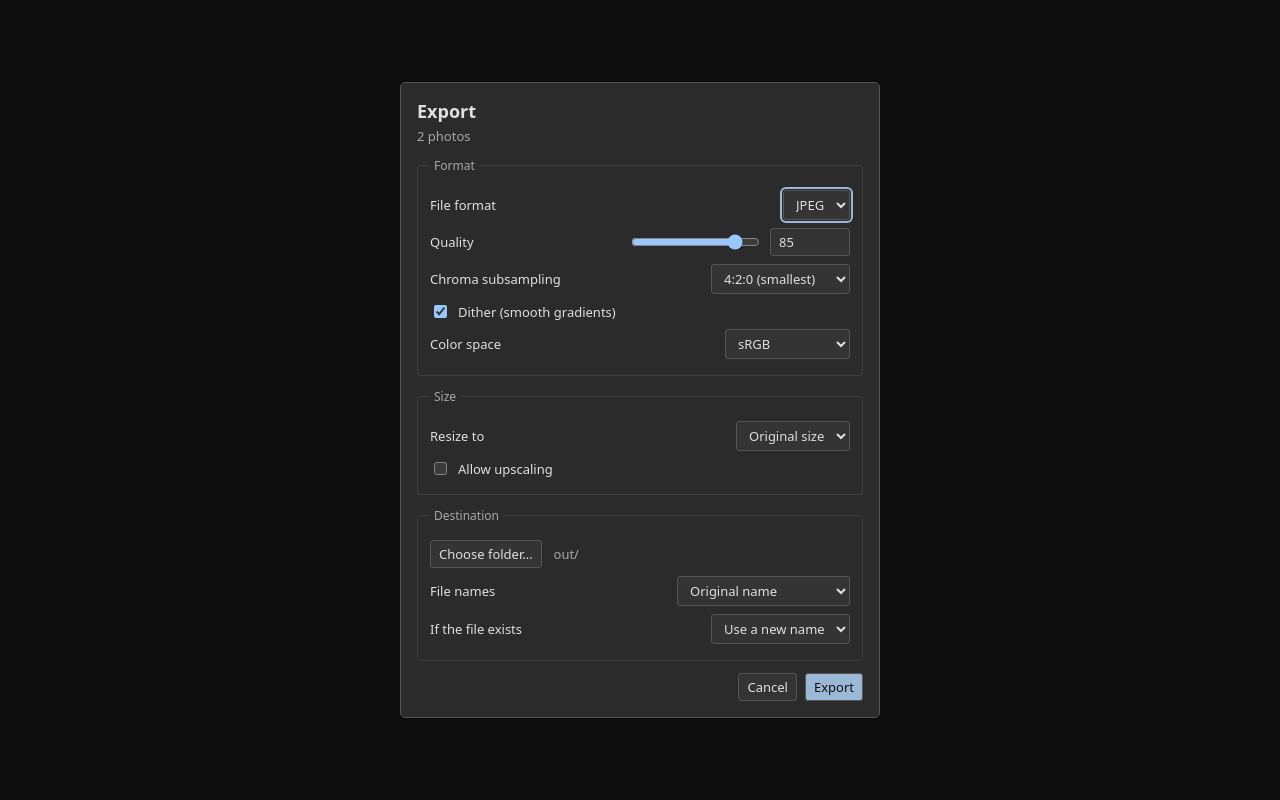
Test: ExportDialog › shows the size value only for a size mode, and checks upscaling
Select "Percent" in the dropdown labelled "Resize to" at (793, 436), box [736,421,850,451]
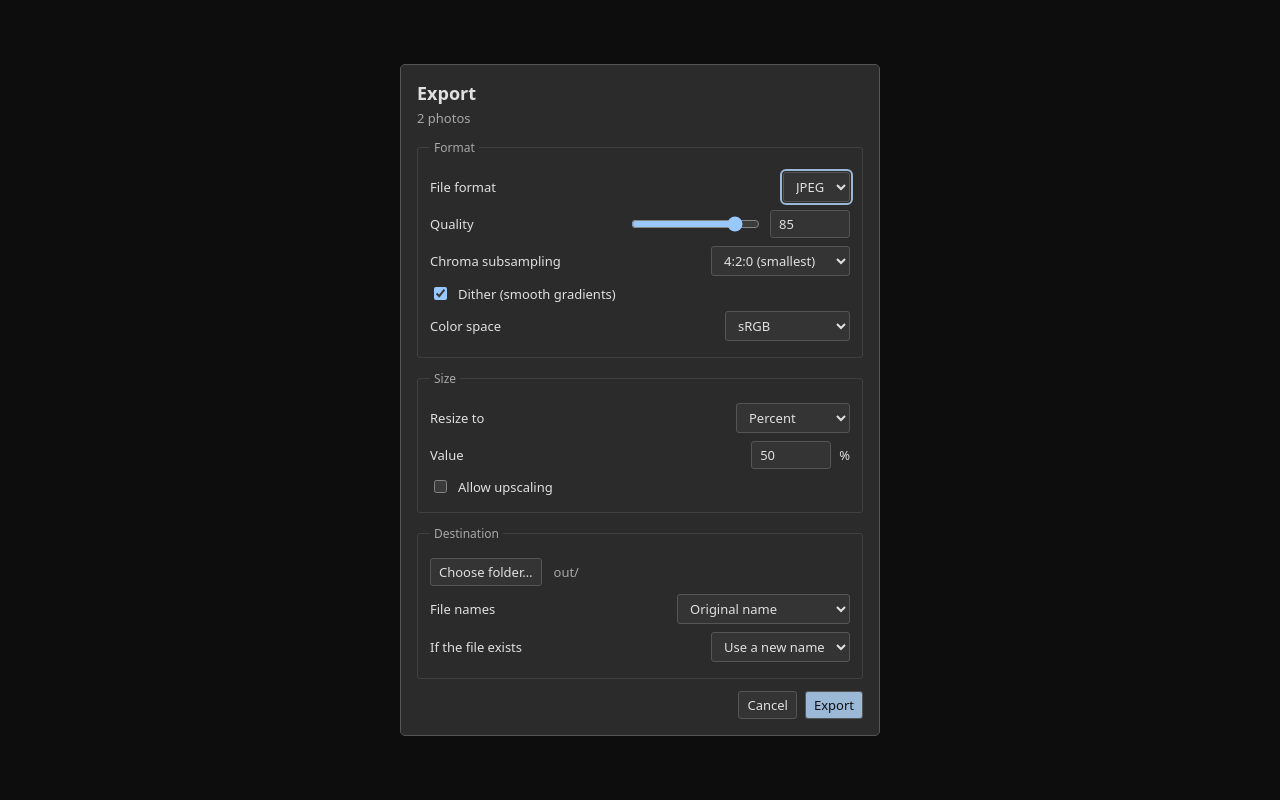
Replace the text in the number field named "Size value" with "200" at (791, 455), box [751,441,831,469]
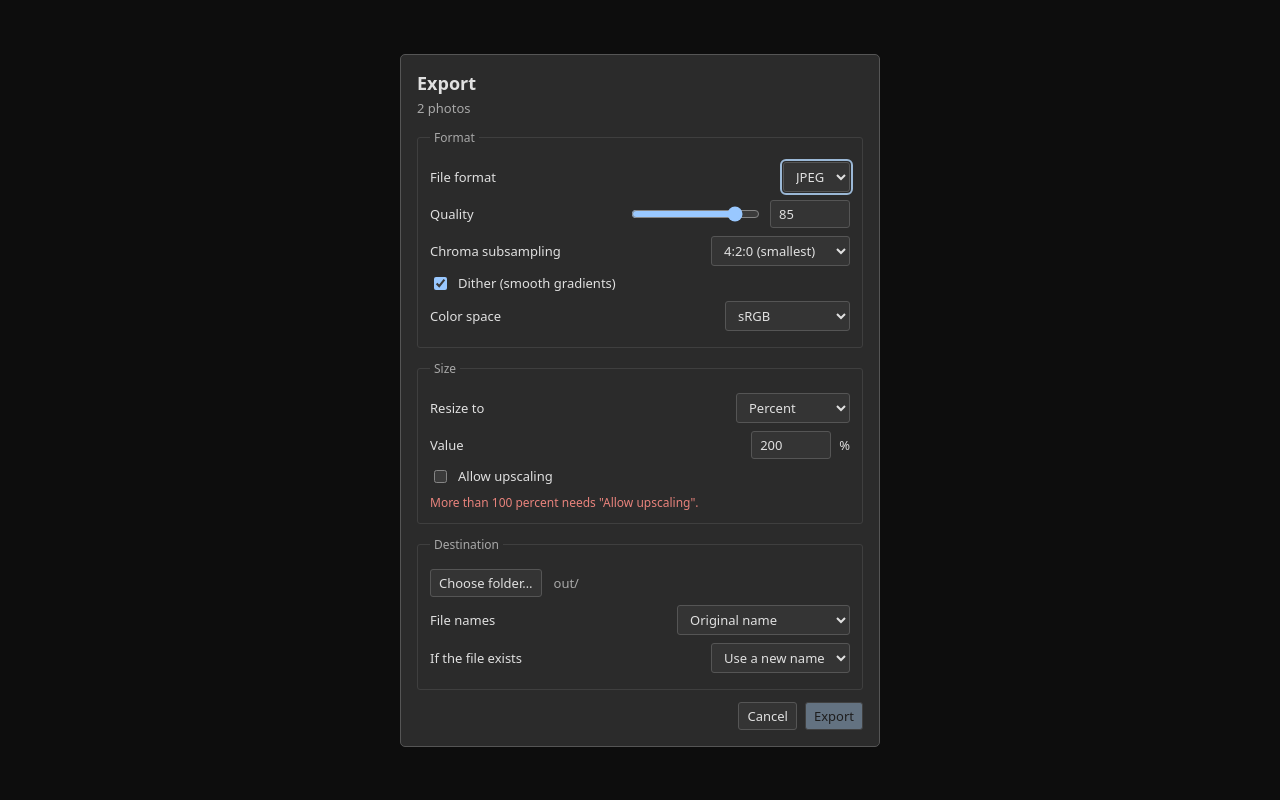
Check: the button "Export" is disabled, box [805,702,863,730]
Click the checkbox labelled "Allow upscaling".
click(440, 476)  # box [434,470,447,482]
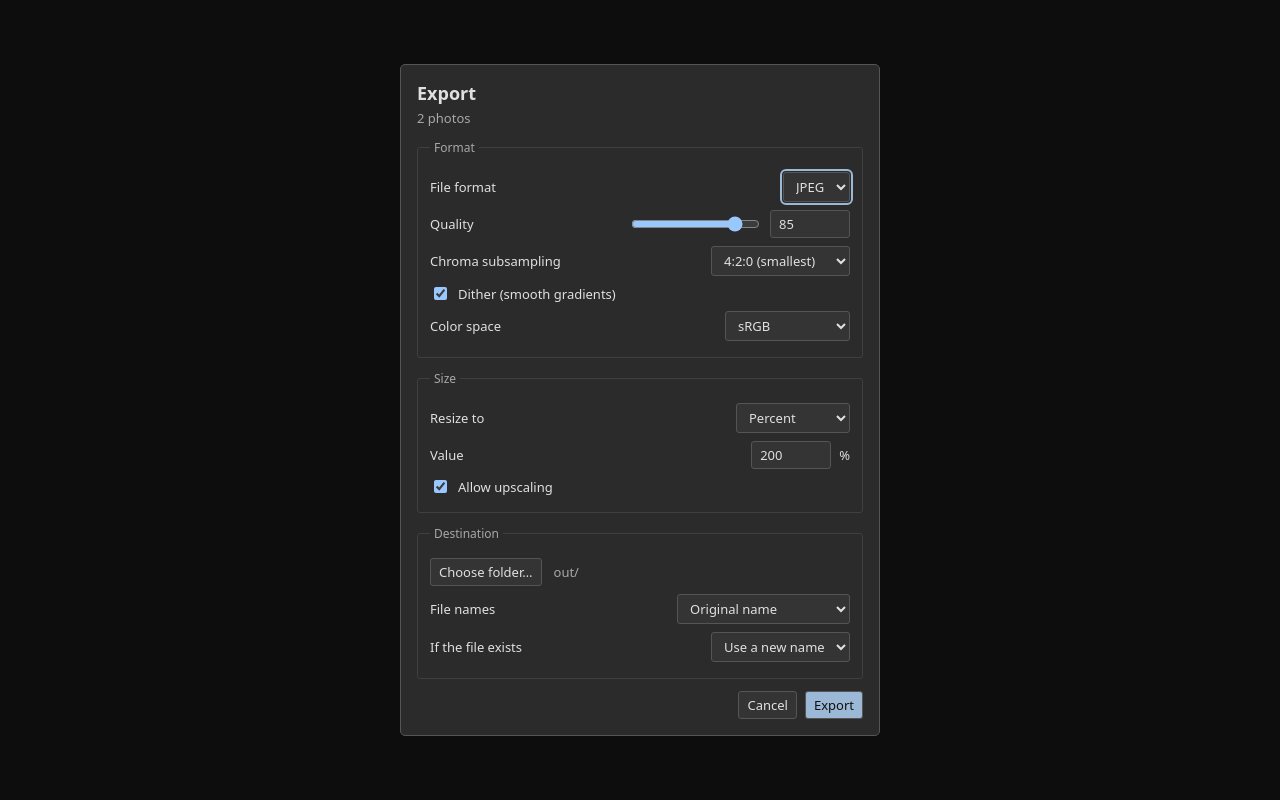
Check: the button "Export" is enabled, box [805,691,863,719]
